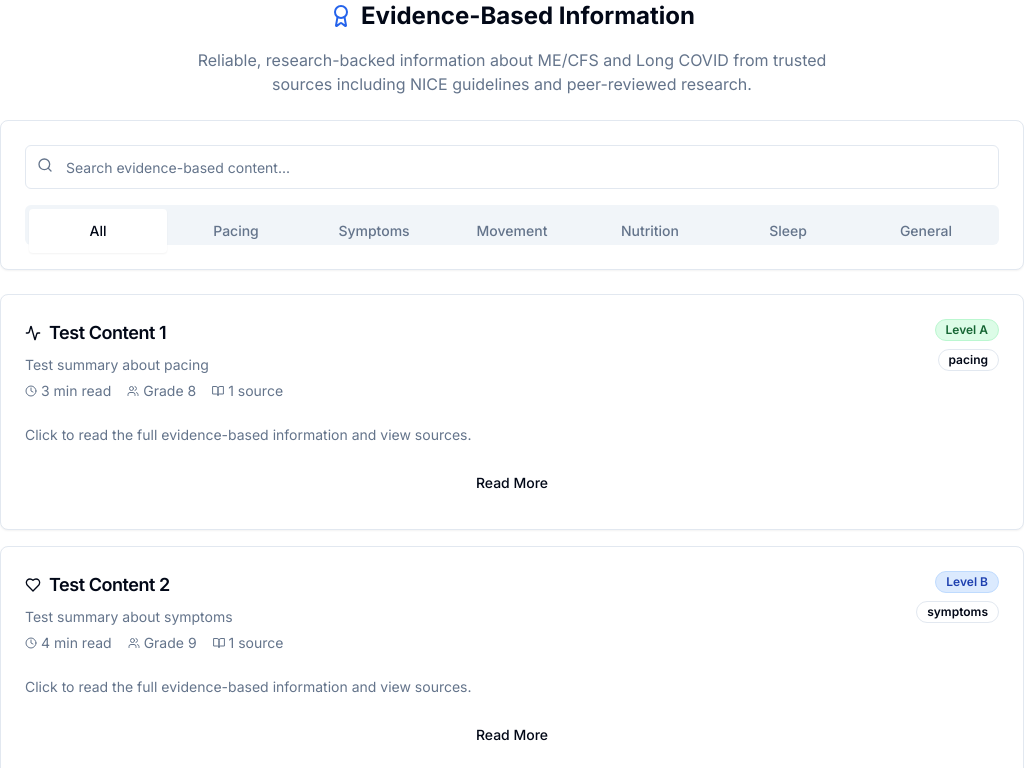
Test: EvidenceBasedContent › announces content changes to screen readers
Expected: the heading "Test Content 1" is shown, top-left (25, 322), bottom-right (166, 343)
Click the button "Read More" below "Test summary about pacing" at [512, 483], box top-left (25, 461), bottom-right (999, 505)
(page scrolled)
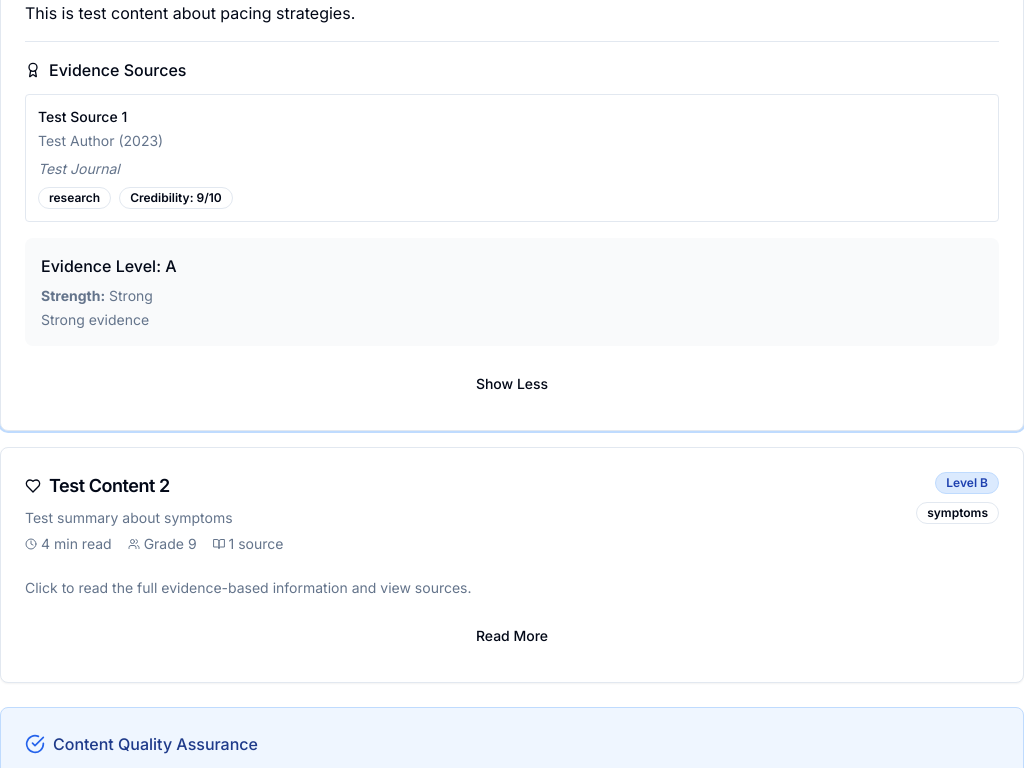
Result: the button "Read More" is expanded at top-left (25, 362), bottom-right (999, 406)
